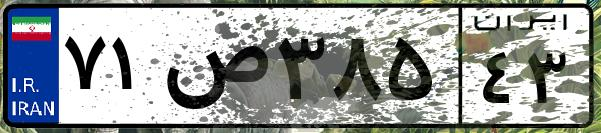1: (110, 28, 158, 98)
3: (270, 28, 330, 110), (525, 38, 570, 115)
4: (475, 38, 525, 113)
5: (385, 28, 445, 110)
7: (57, 26, 110, 100)
8: (330, 28, 385, 110)
ص: (158, 20, 270, 120)
